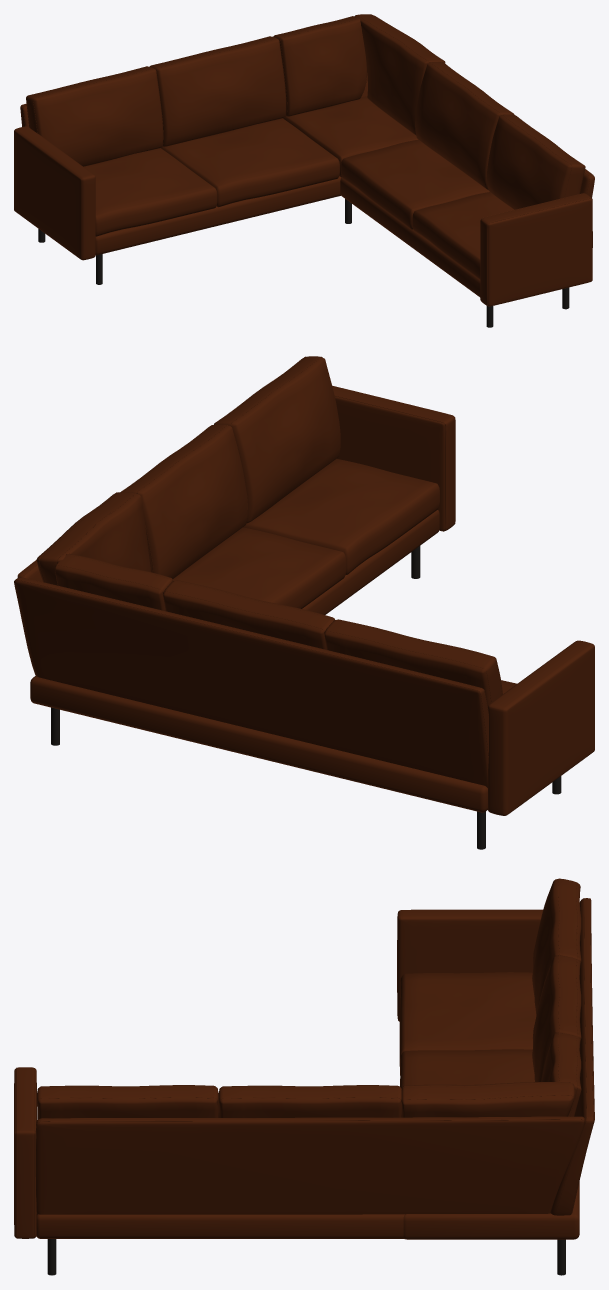
The picture shows the model from 3 angles, top to bottom: view 1: azimuth 30°, elevation 25°; view 2: azimuth 150°, elevation 25°; view 3: azimuth 270°, elevation 25°; orthographic projection. The views are drawn at different scales.
Visible parts, largest first — view 1: ChamferBox007, ChamferBox014, ChamferBox005, ChamferBox004, ChamferBox002, ChamferBox003, ChamferBox016, ChamferBox009, ChamferBox012, ChamferBox017, ChamferBox010, ChamferBox001 (+4 smaller); view 2: ChamferBox006, ChamferBox002, ChamferBox001, ChamferBox013, ChamferBox017, ChamferBox016, ChamferBox014, ChamferBox012, ChamferBox005, ChamferBox007, ChamferBox010, ChamferBox009 (+2 smaller); view 3: ChamferBox015, ChamferBox003, ChamferBox011, ChamferBox002, ChamferBox016, ChamferBox017, ChamferBox010, ChamferBox001, ChamferBox004, ChamferBox006, ChamferBox014, ChamferBox007 (+4 smaller).
Part boxes in pixels (<box>): ChamferBox007: <box>150,36,286,146</box>; ChamferBox014: <box>480,193,592,306</box>; ChamferBox005: <box>26,66,163,166</box>; ChamferBox004: <box>161,118,339,207</box>; ChamferBox002: <box>14,126,95,260</box>; ChamferBox003: <box>83,148,217,236</box>; ChamferBox016: <box>415,62,514,189</box>; ChamferBox009: <box>273,16,366,116</box>; ChamferBox012: <box>341,139,489,229</box>; ChamferBox017: <box>486,114,585,209</box>; ChamferBox010: <box>354,14,445,135</box>; ChamferBox001: <box>95,176,340,255</box>; ChamferBox006: <box>14,577,488,787</box>; ChamferBox002: <box>488,640,594,815</box>; ChamferBox001: <box>30,676,487,812</box>; ChamferBox013: <box>243,458,439,574</box>; ChamferBox017: <box>214,356,340,523</box>; ChamferBox016: <box>120,424,247,578</box>; ChamferBox014: <box>332,386,455,530</box>; ChamferBox012: <box>172,527,346,608</box>; ChamferBox005: <box>324,619,502,706</box>; ChamferBox007: <box>163,580,334,649</box>; ChamferBox010: <box>36,492,150,585</box>; ChamferBox009: <box>55,553,172,610</box>; ChamferBox015: <box>35,1117,584,1214</box>; ChamferBox003: <box>399,972,536,1066</box>; ChamferBox011: <box>36,1214,404,1238</box>; ChamferBox002: <box>397,909,542,1021</box>; ChamferBox016: <box>218,1085,401,1117</box>; ChamferBox017: <box>37,1085,218,1119</box>; ChamferBox010: <box>401,1082,574,1117</box>; ChamferBox001: <box>403,1181,579,1239</box>; ChamferBox004: <box>400,1049,534,1088</box>; ChamferBox006: <box>550,898,594,1215</box>; ChamferBox014: <box>14,1067,36,1238</box>; ChamferBox007: <box>532,955,581,1081</box>.
Size of the model in its own units: 1236 by 464 by 1302.
